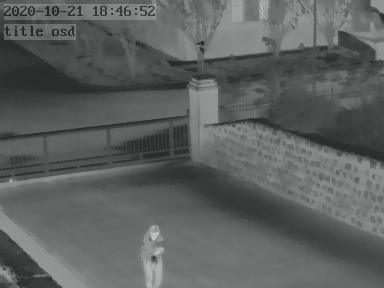person: (139, 220, 164, 288)
